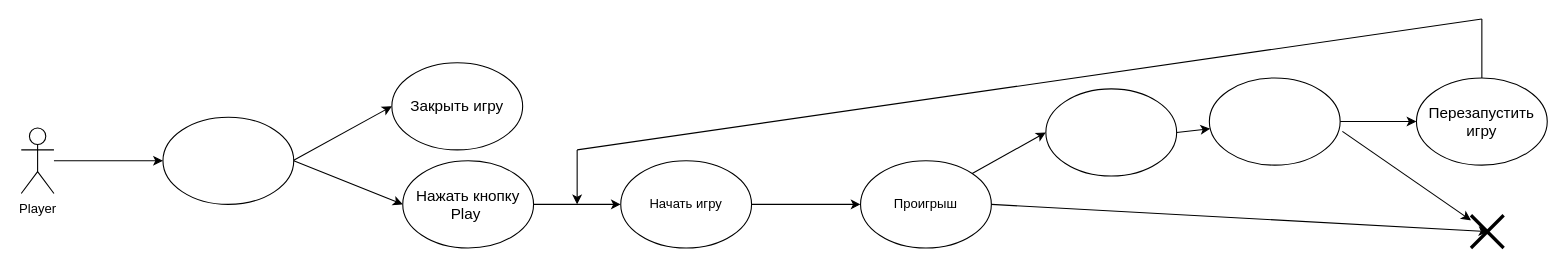
This 1566x268 diagram has some shape labels left out. The box of each missing label's shape, as (x1, y1, x2, y2) in pixels:
Вносяться изменения в файл со статистикой: (1208, 77, 1340, 165)
Запустить игру: (162, 116, 294, 204)
Обновить рекорд: (1045, 88, 1177, 176)
